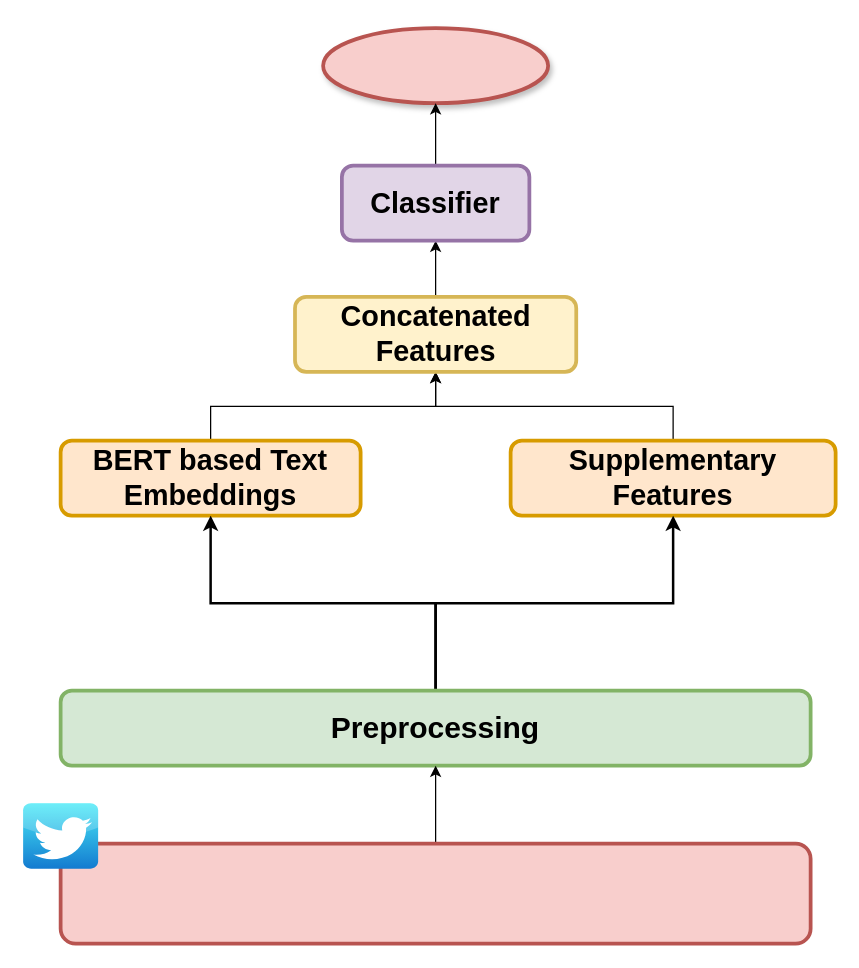
The diagram is 859 pixels wide and 968 high, and some of its shapes have lost their labels. The shapes that lost their labels are listed below. From the top down, each one's centre as x and y in pixels, then its label:
At point 436,67: "Fake or Real?".
At point 435,893: "Tweet: India overtakes Russia as third worst-hit nation in Covid-19 Tally".
